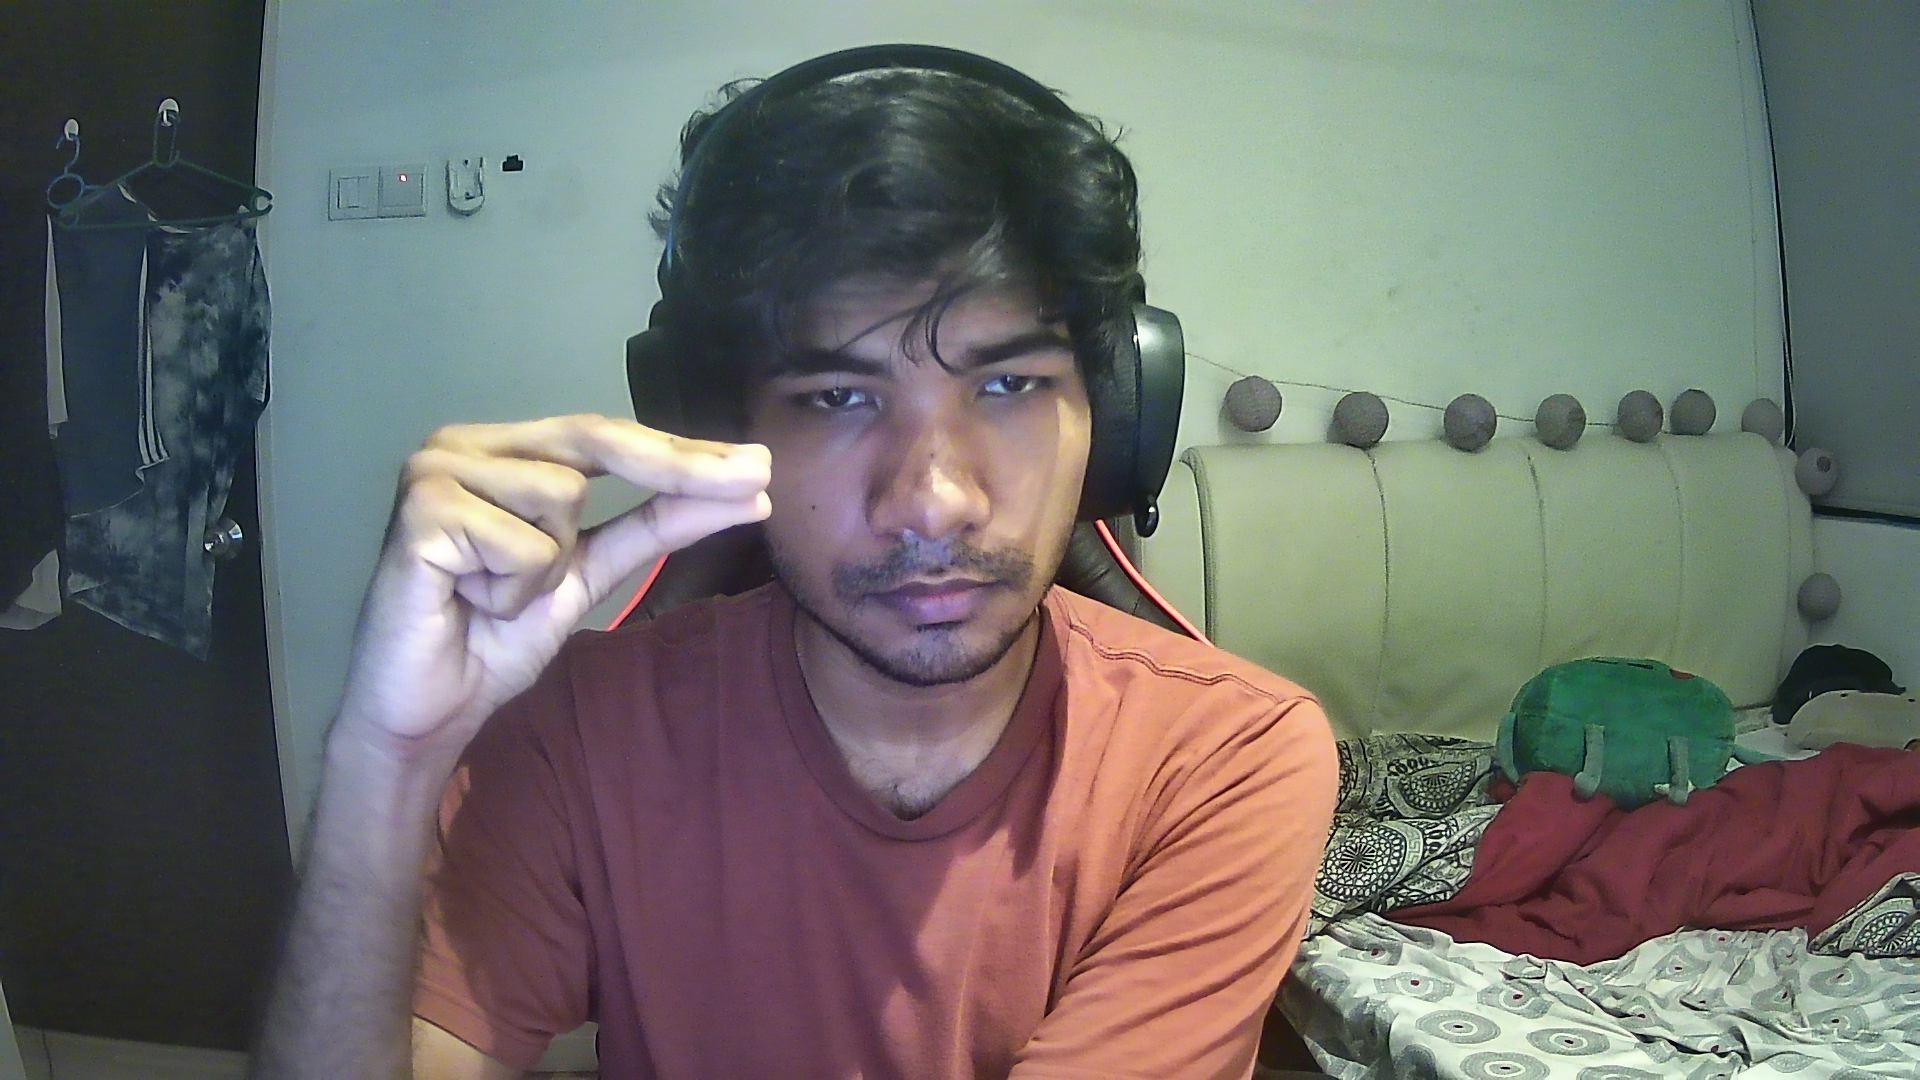No: (328, 400, 795, 760)
